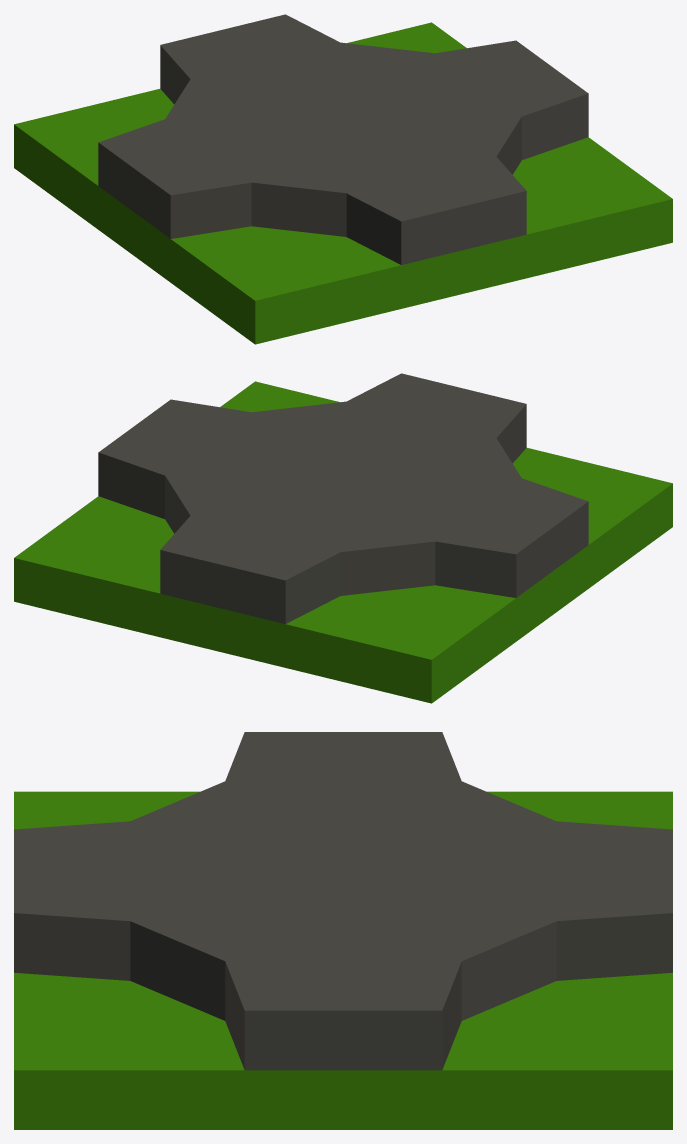
Rendered from Road.obj.
3 views of the same model, one above another, from view 1: azimuth 30°, elevation 25°; view 2: azimuth 150°, elevation 25°; view 3: azimuth 270°, elevation 25° (orthographic). The views are drawn at different scales.
Visible parts, largest first — view 1: Line002, Tilebase100; view 2: Line002, Tilebase100; view 3: Line002, Tilebase100.
Part boxes in pixels (left/top/right/bottom): Line002: left=98, top=14, right=588, bottom=264; Tilebase100: left=14, top=22, right=672, bottom=344; Line002: left=98, top=373, right=588, bottom=623; Tilebase100: left=14, top=381, right=672, bottom=703; Line002: left=14, top=732, right=672, bottom=1070; Tilebase100: left=14, top=791, right=672, bottom=1129.
Size of the model in its own units: 10 by 2 by 10.
